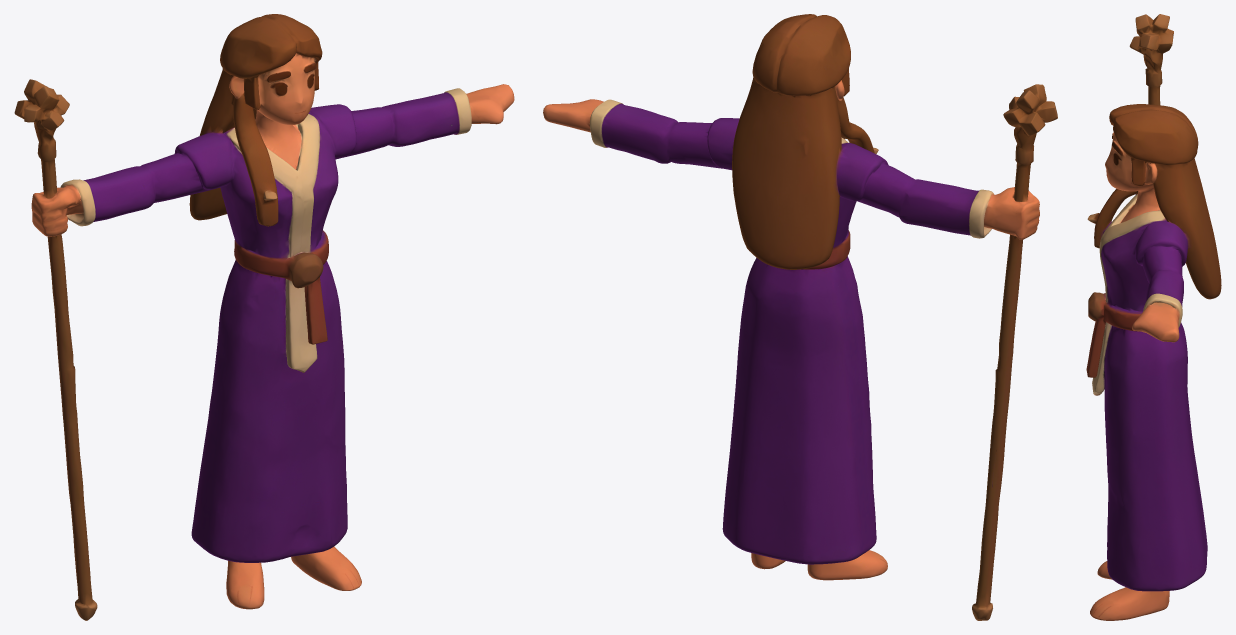
File: comp_lucia.glb
3 views of the same model, side by side, from view 1: azimuth 30°, elevation 25°; view 2: azimuth 150°, elevation 25°; view 3: azimuth 270°, elevation 25° (orthographic). The views are drawn at different scales.
Visible parts, largest first — view 1: tripo_node_04144e8a-8a0e-4569-bfd5-9381100dc366; view 2: tripo_node_04144e8a-8a0e-4569-bfd5-9381100dc366; view 3: tripo_node_04144e8a-8a0e-4569-bfd5-9381100dc366.
Boxes of the visible parts, <box> form: tripo_node_04144e8a-8a0e-4569-bfd5-9381100dc366: <box>14,14,514,620</box>; tripo_node_04144e8a-8a0e-4569-bfd5-9381100dc366: <box>543,14,1057,620</box>; tripo_node_04144e8a-8a0e-4569-bfd5-9381100dc366: <box>1086,14,1221,620</box>.
Size of the model in its own units: 0.9417 by 1 by 0.2502.
1 material, 1 textured.
